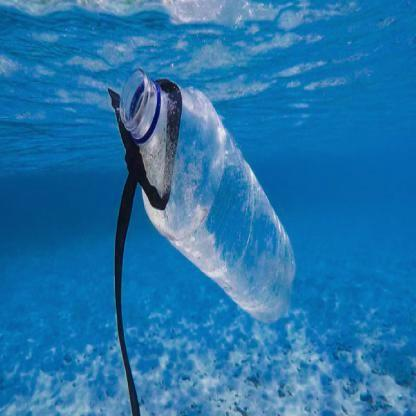Plastic: (117, 61, 299, 326)
